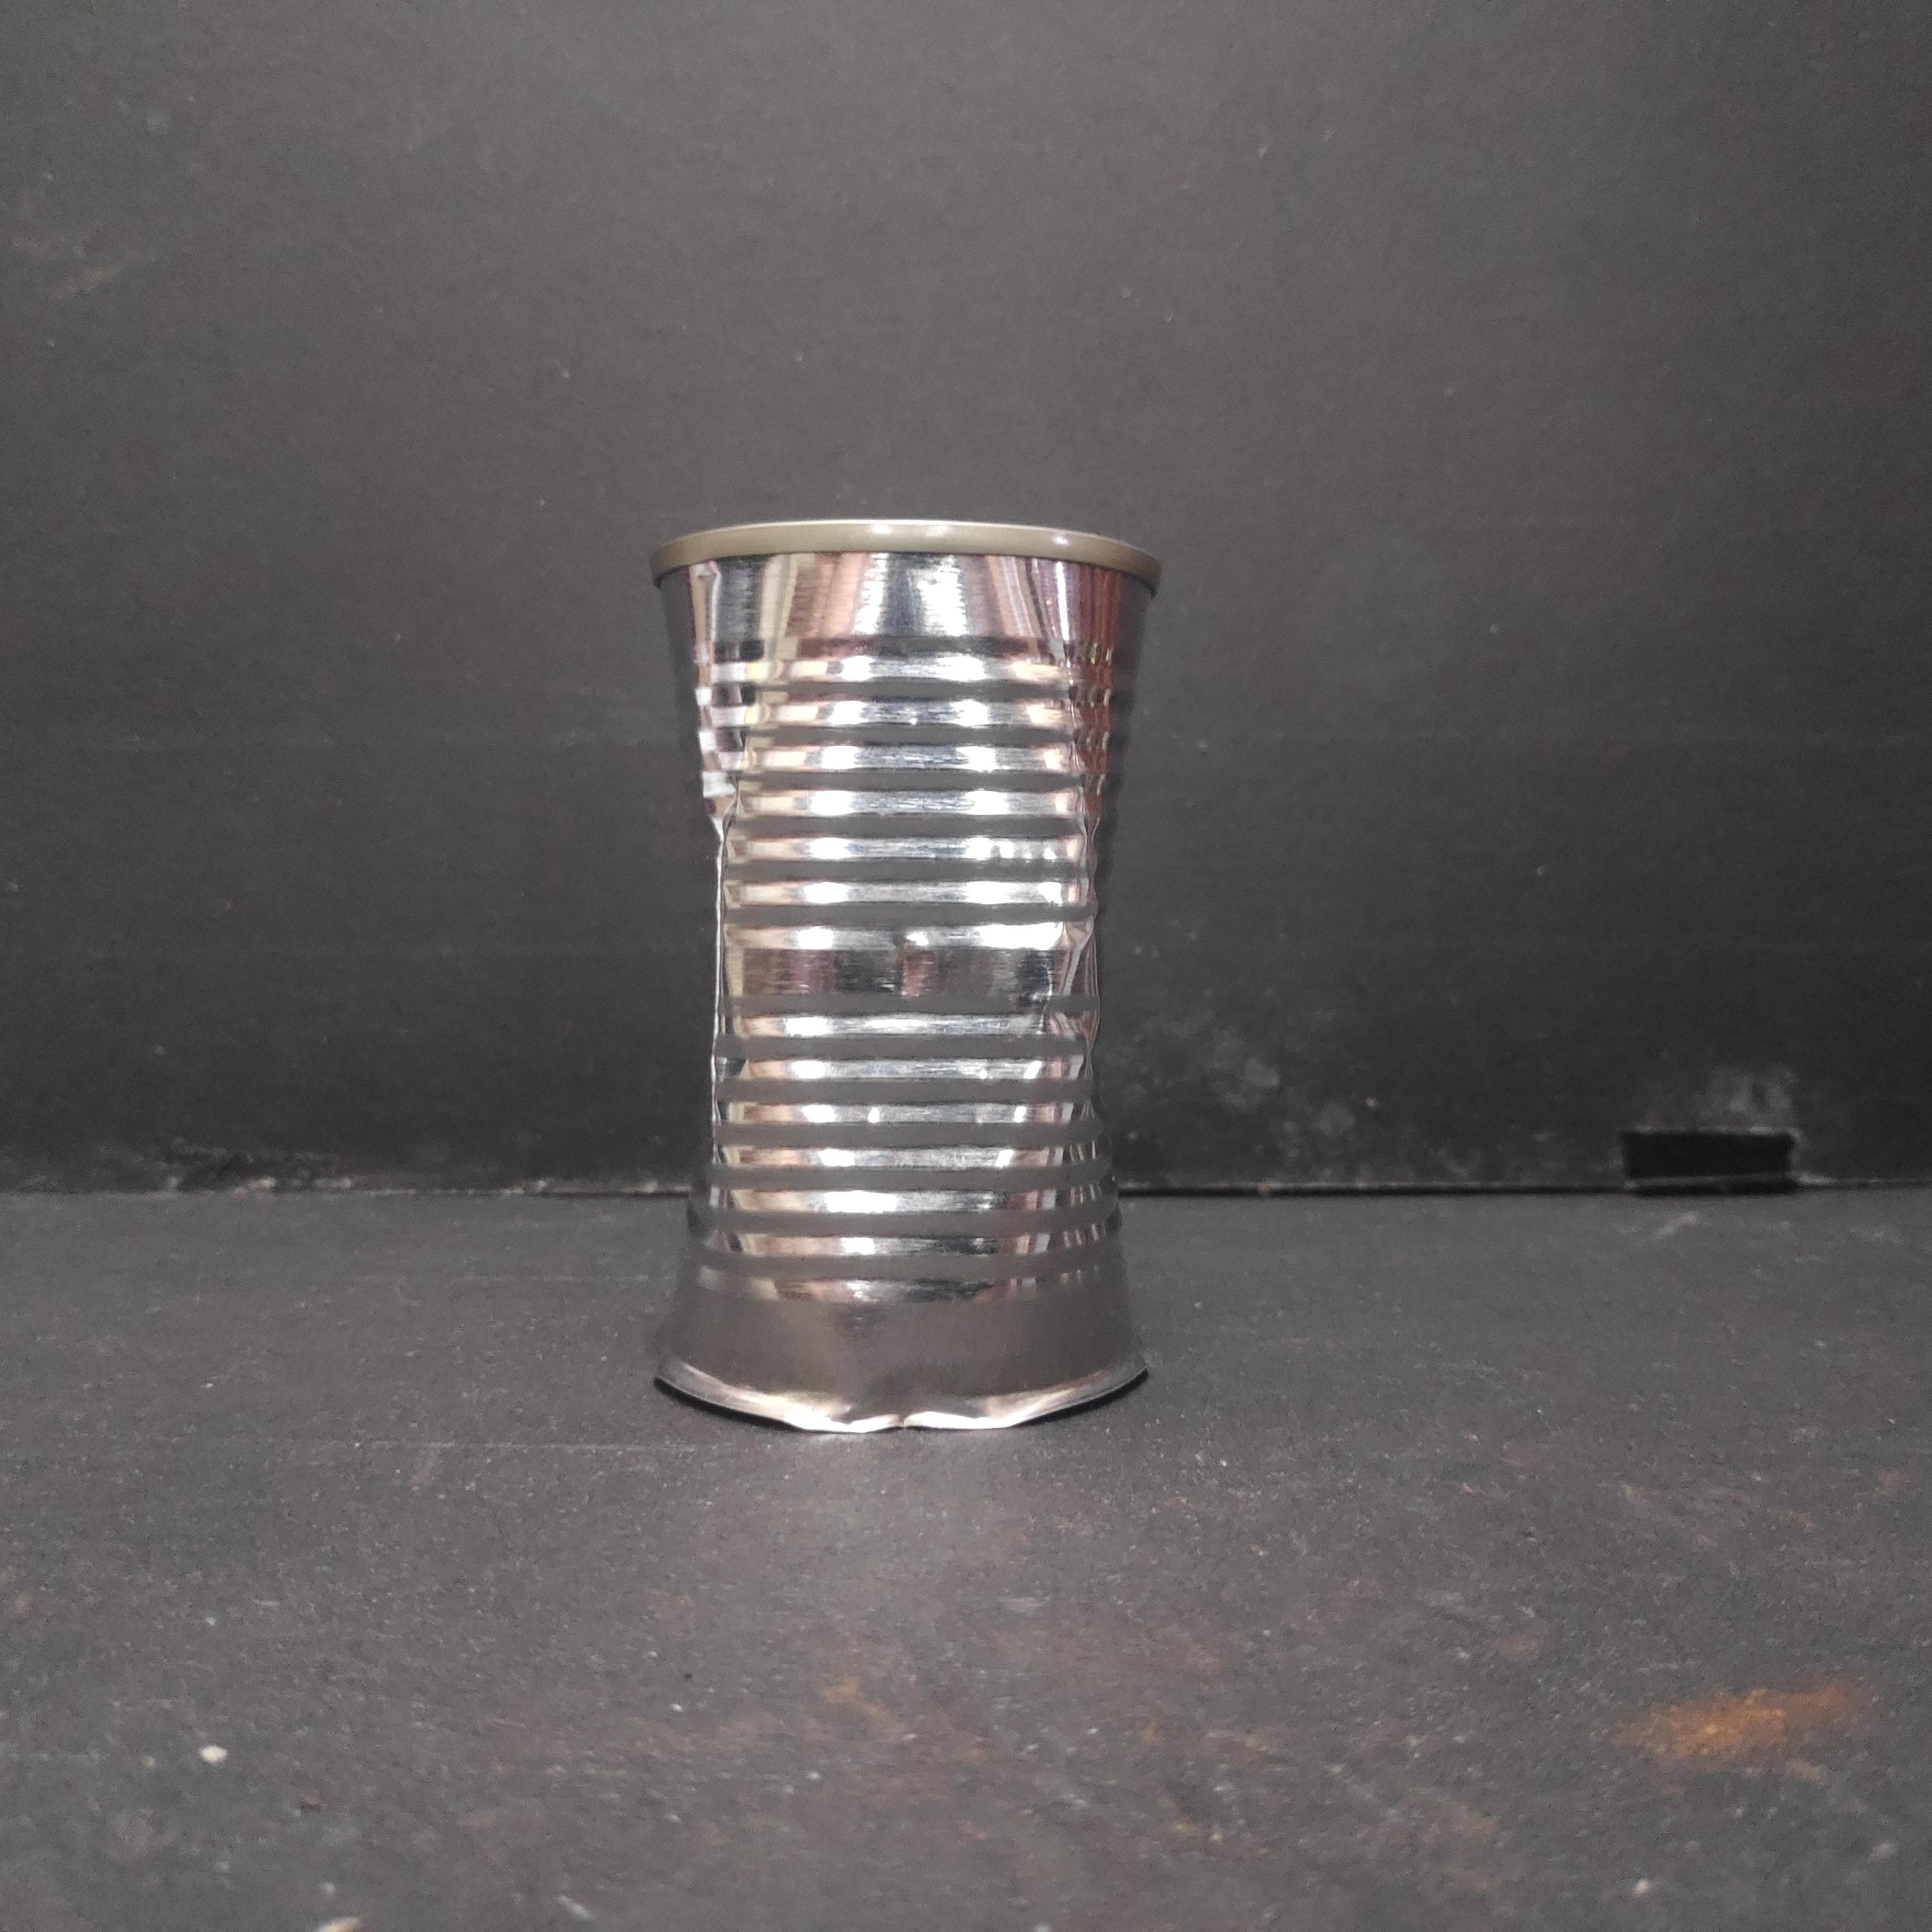Minor Defect: (637, 511, 1175, 1445)
